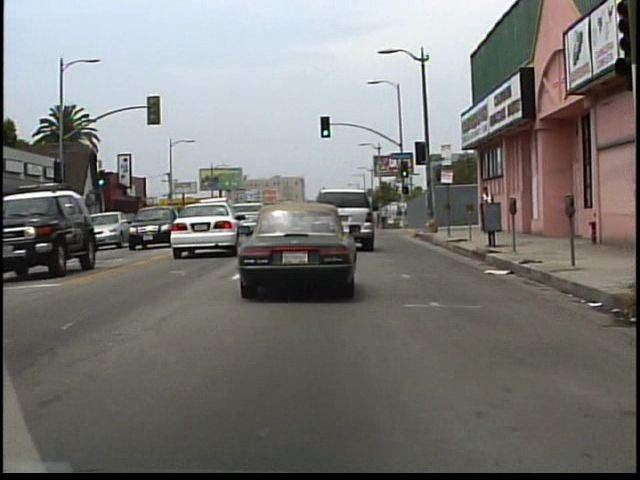person: (478, 183, 498, 235)
